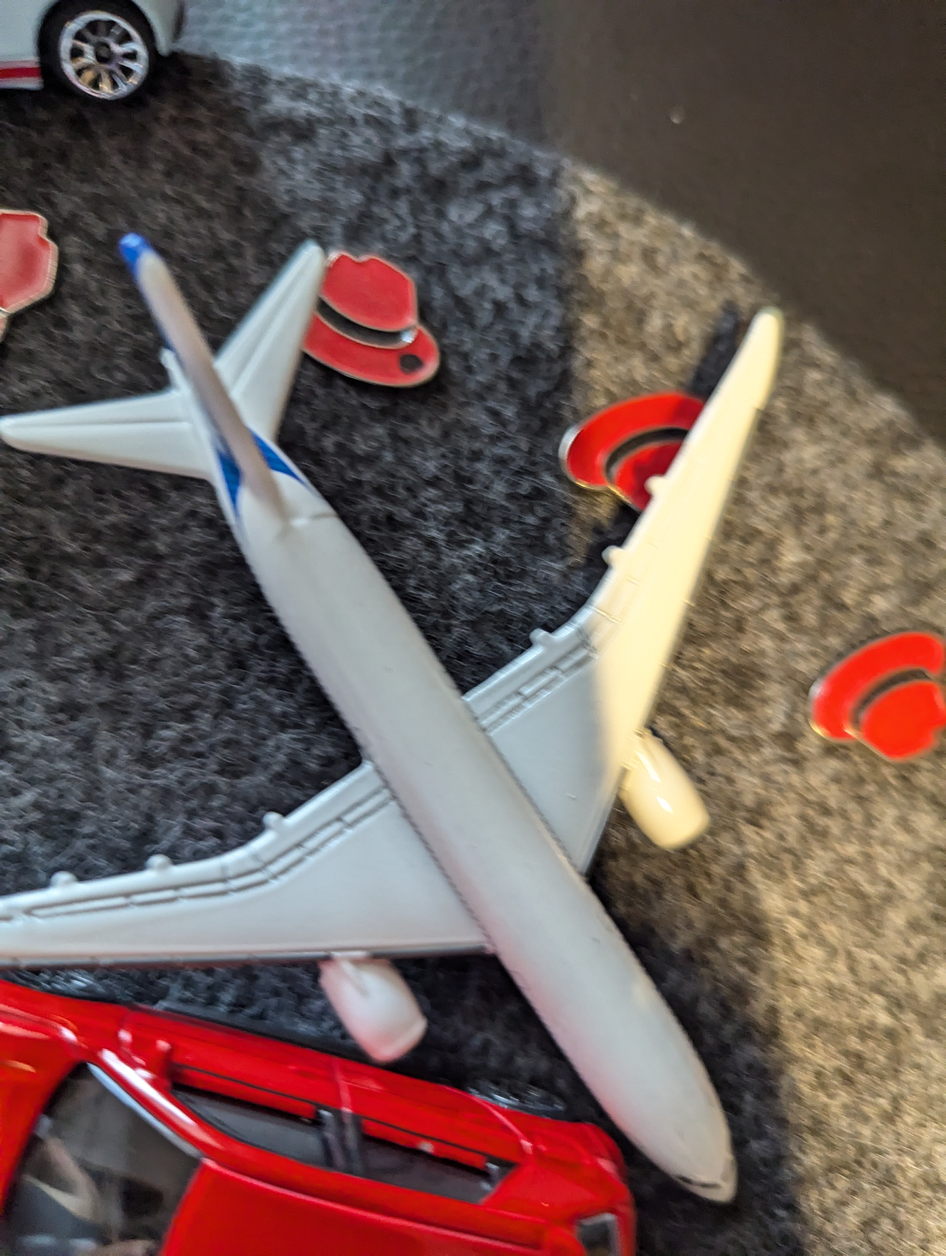Airplane: (0, 212, 830, 1256)
Red-Hat: (533, 386, 741, 548), (790, 606, 946, 817), (268, 225, 454, 398)
Scratch: (380, 342, 447, 386)
